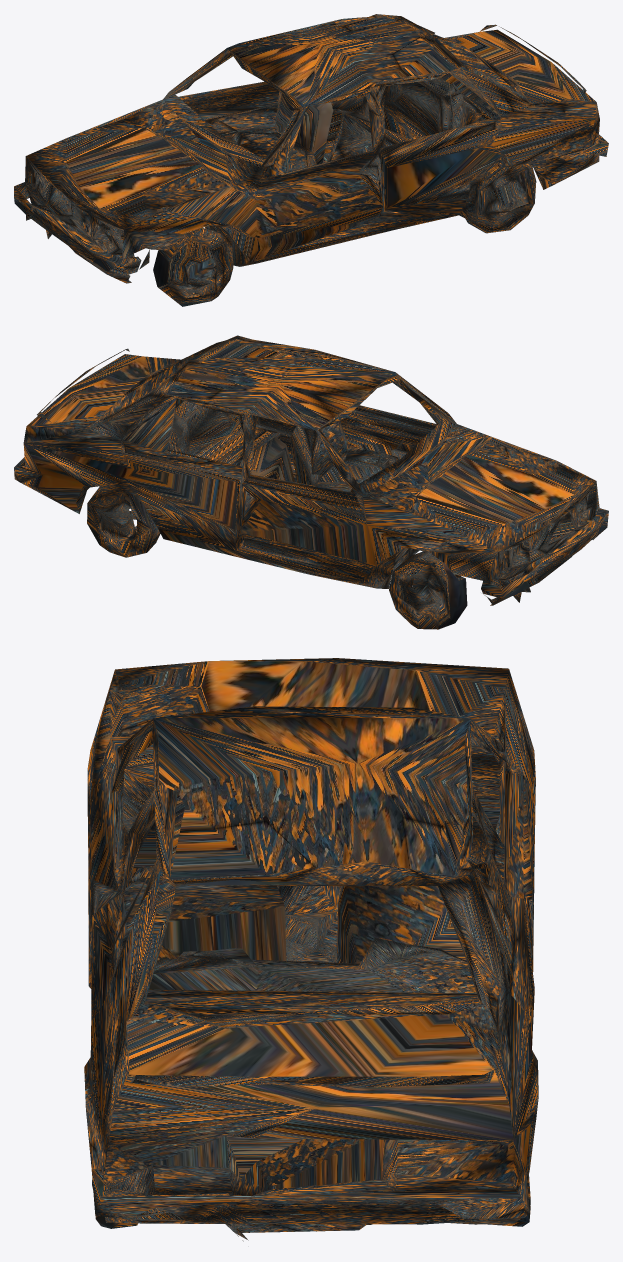
File: prop_burnedcar.glb
3 renders of one model, top to bottom at view 1: azimuth 30°, elevation 25°; view 2: azimuth 150°, elevation 25°; view 3: azimuth 270°, elevation 25°, orthographic. The views are drawn at different scales.
Size of the model in its own units: 1.9 by 0.6118 by 0.7374.
Materials: 1 (1 with a texture image).
